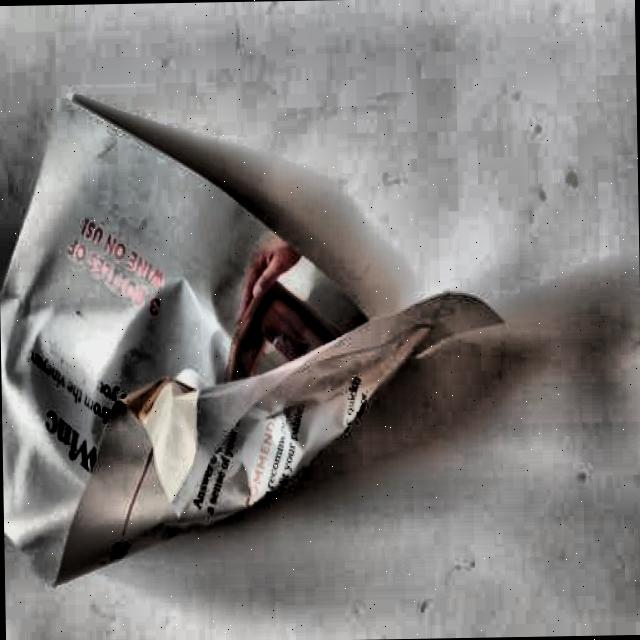paper: (0, 91, 496, 572)
